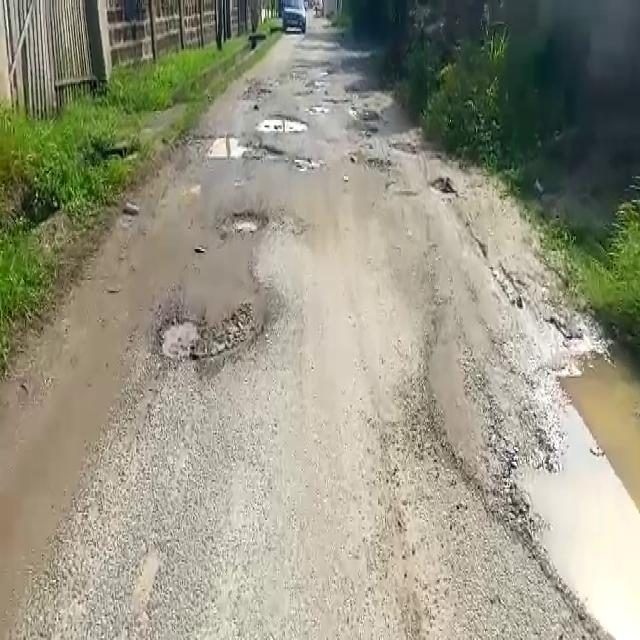Pothole: (506, 348, 640, 639), (154, 300, 254, 361), (193, 133, 254, 161), (223, 208, 268, 234), (257, 115, 309, 132)
